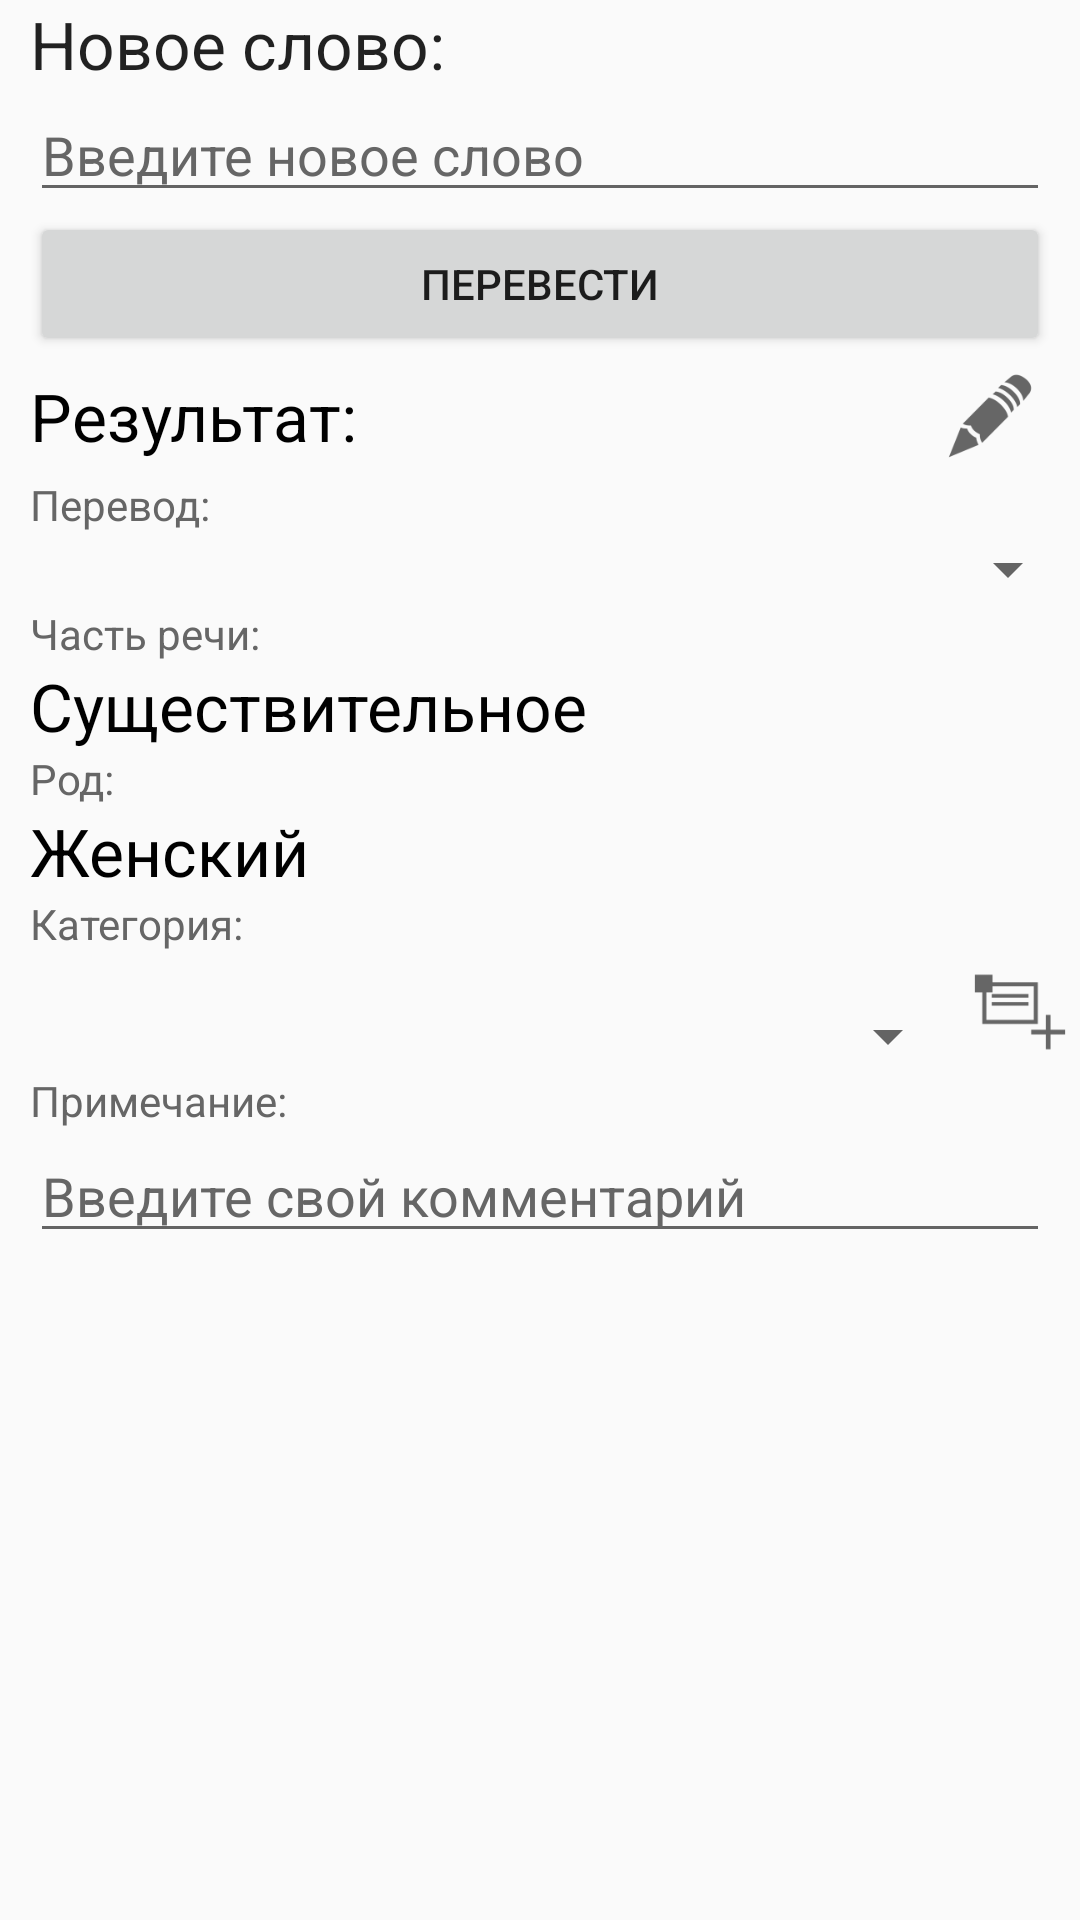

Where icons sit on this 1080 × 1920 app screen, as (x1, y1, x2, y2):
add category: (975, 974, 1065, 1050)
edit: (949, 374, 1032, 457)
